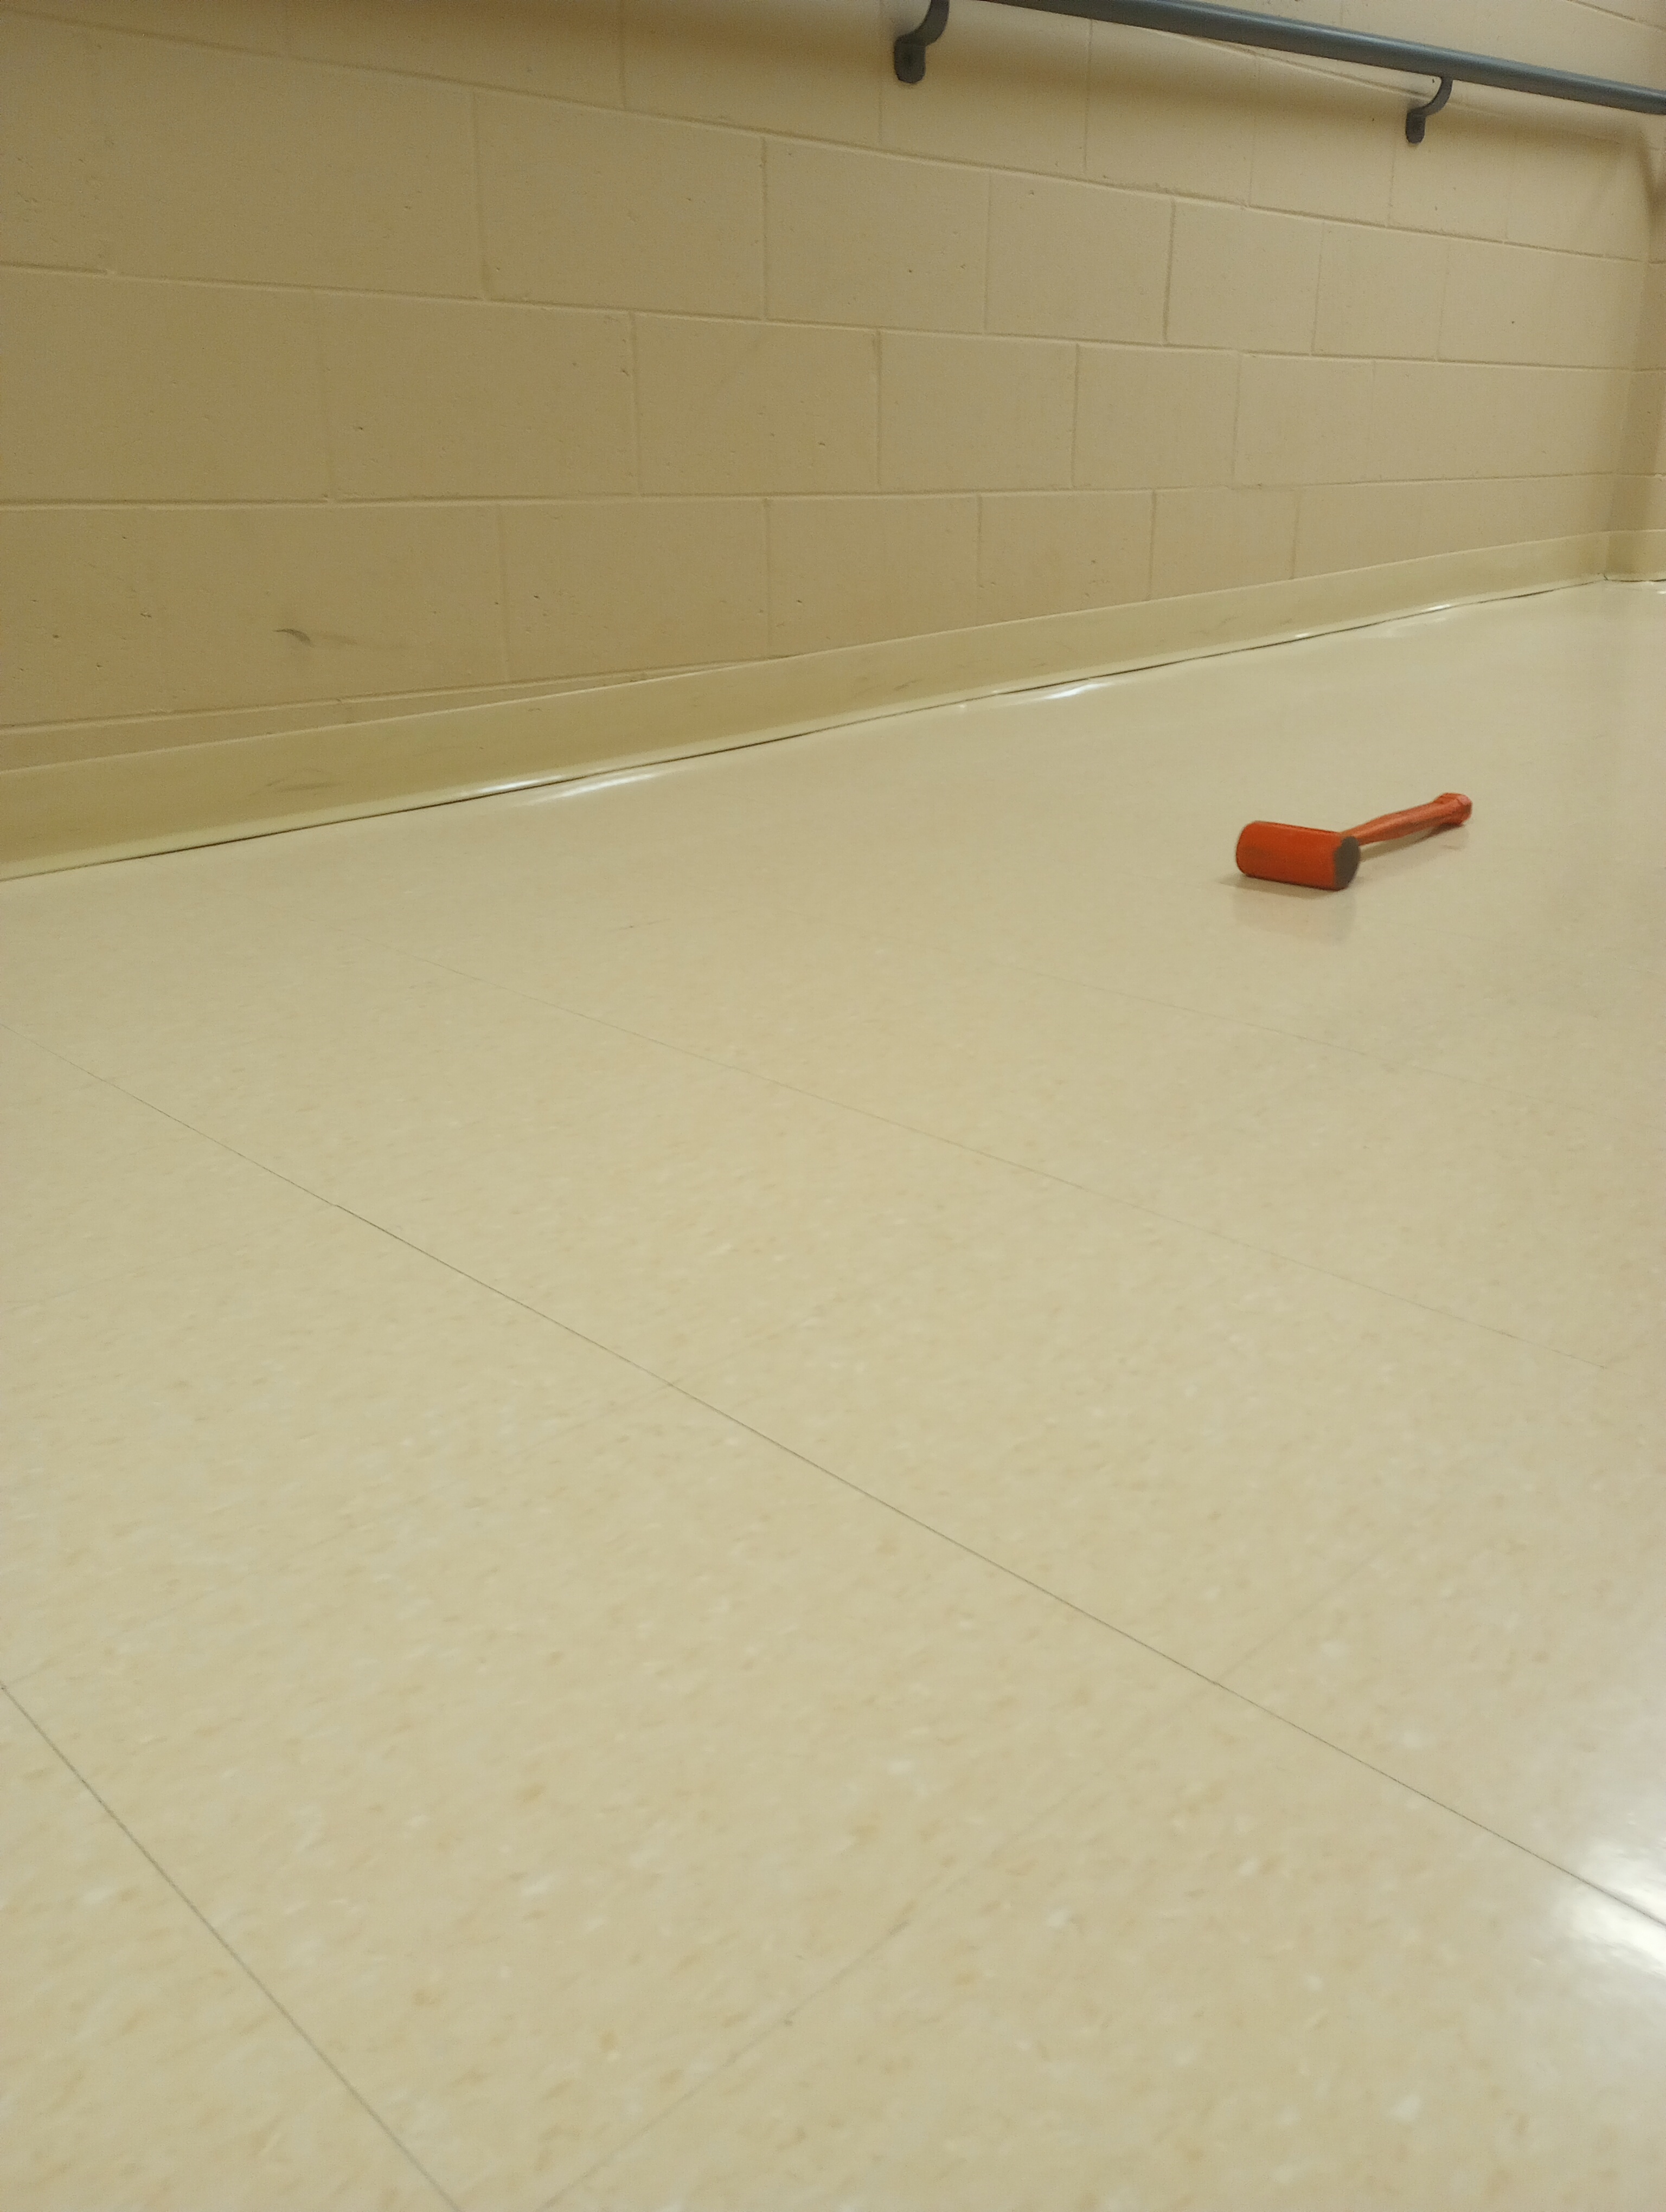bottle: (1232, 782, 1475, 895)
